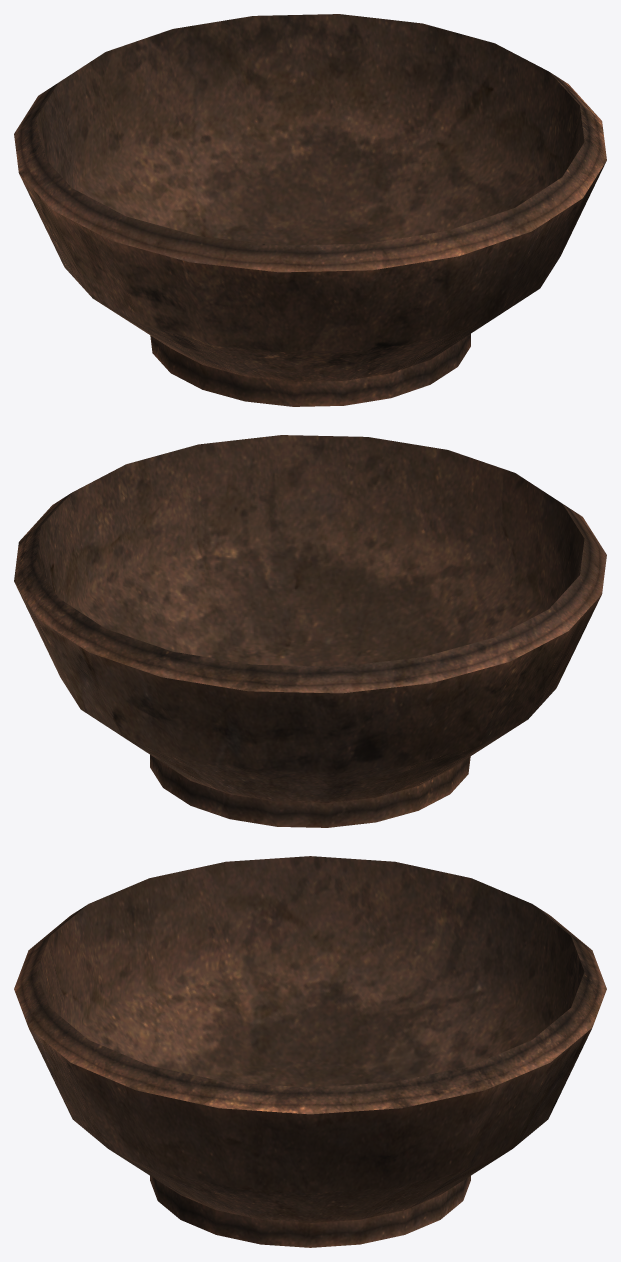
Rendered from BowlEmpty.fbx.
3 renders of one model, top to bottom at view 1: azimuth 30°, elevation 25°; view 2: azimuth 150°, elevation 25°; view 3: azimuth 270°, elevation 25°, orthographic.
Visible parts, largest first — view 1: Default_Layer; view 2: Default_Layer; view 3: Default_Layer.
Boxes of the visible parts, x1=… form: Default_Layer: x1=14, y1=14, x2=606, y2=406; Default_Layer: x1=14, y1=435, x2=606, y2=827; Default_Layer: x1=14, y1=856, x2=606, y2=1247.
Bounding box in the file's own units: 63.5 × 24.59 × 63.5.
